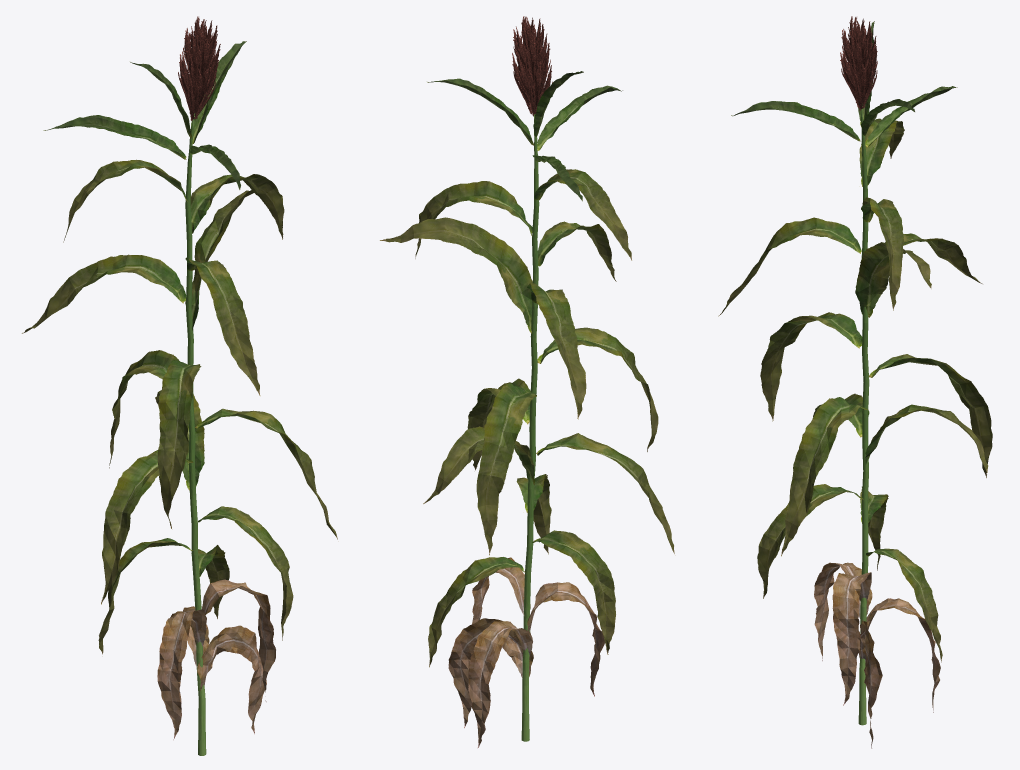
File: sorghum_variant_7.dae
3 views of the same model, side by side, from view 1: azimuth 30°, elevation 25°; view 2: azimuth 150°, elevation 25°; view 3: azimuth 270°, elevation 25° (orthographic). The views are drawn at different scales.
Visible parts, largest first — view 1: LeavesMid, LeavesBase, LeavesTop, Stem, Flower; view 2: LeavesMid, LeavesBase, Stem, LeavesTop, Flower; view 3: LeavesMid, LeavesBase, Stem, LeavesTop, Flower.
Part boxes in pixels (<box>): LeavesMid: <box>22,159,337,654</box>; LeavesBase: <box>157,579,275,739</box>; LeavesTop: <box>43,41,246,189</box>; Stem: <box>185,113,206,755</box>; Flower: <box>178,16,220,120</box>; LeavesMid: <box>380,169,674,667</box>; LeavesBase: <box>448,557,604,747</box>; Stem: <box>521,114,539,741</box>; LeavesTop: <box>427,71,622,201</box>; Flower: <box>512,16,552,116</box>; LeavesMid: <box>718,118,992,662</box>; LeavesBase: <box>814,562,940,748</box>; Stem: <box>858,104,869,725</box>; LeavesTop: <box>731,21,957,147</box>; Flower: <box>840,16,877,110</box>.
Bounding box in the file's own units: 0.9106 × 0.9641 × 2.58.
